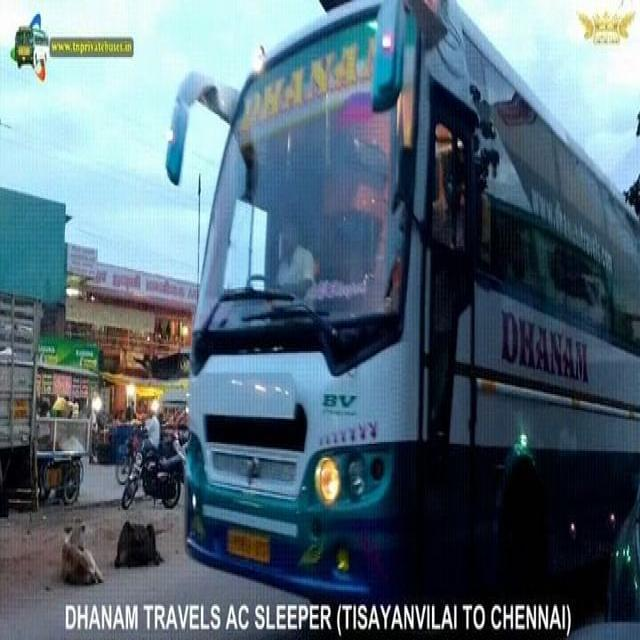Bus: (164, 2, 640, 640)
